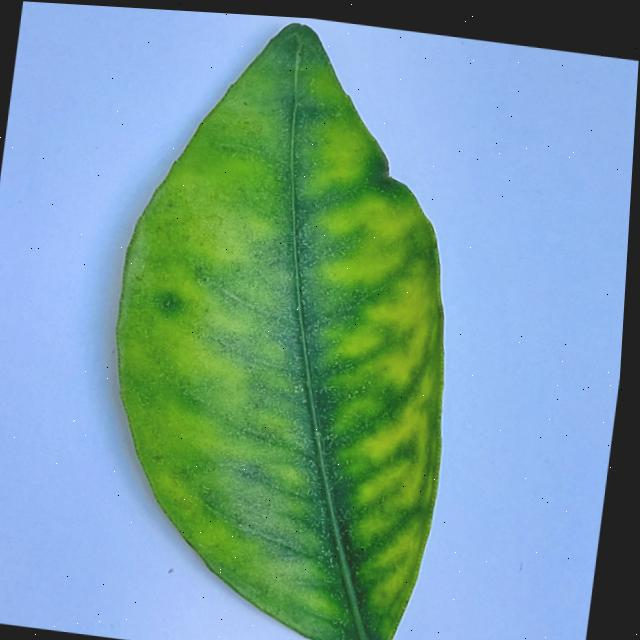greening: (115, 23, 442, 640)
